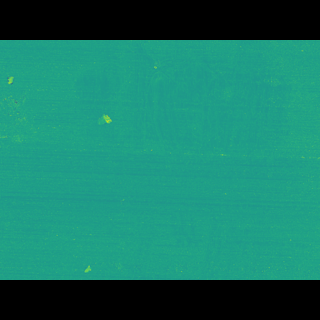Loch: (65, 67, 307, 158)
